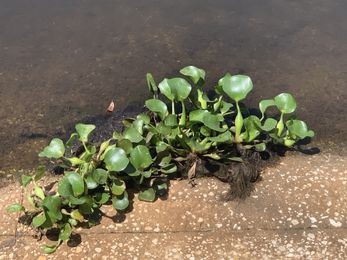water_hyacinth: (12, 54, 341, 249)
